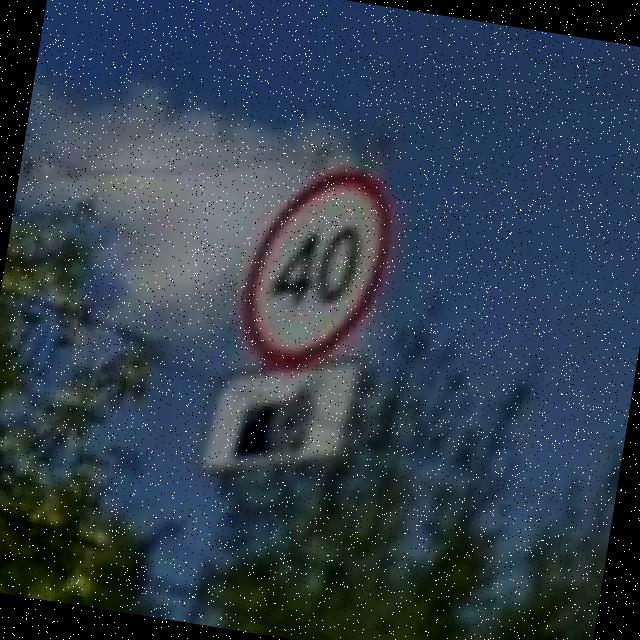Ograniczenie predkosci do 40: (227, 153, 404, 390)
